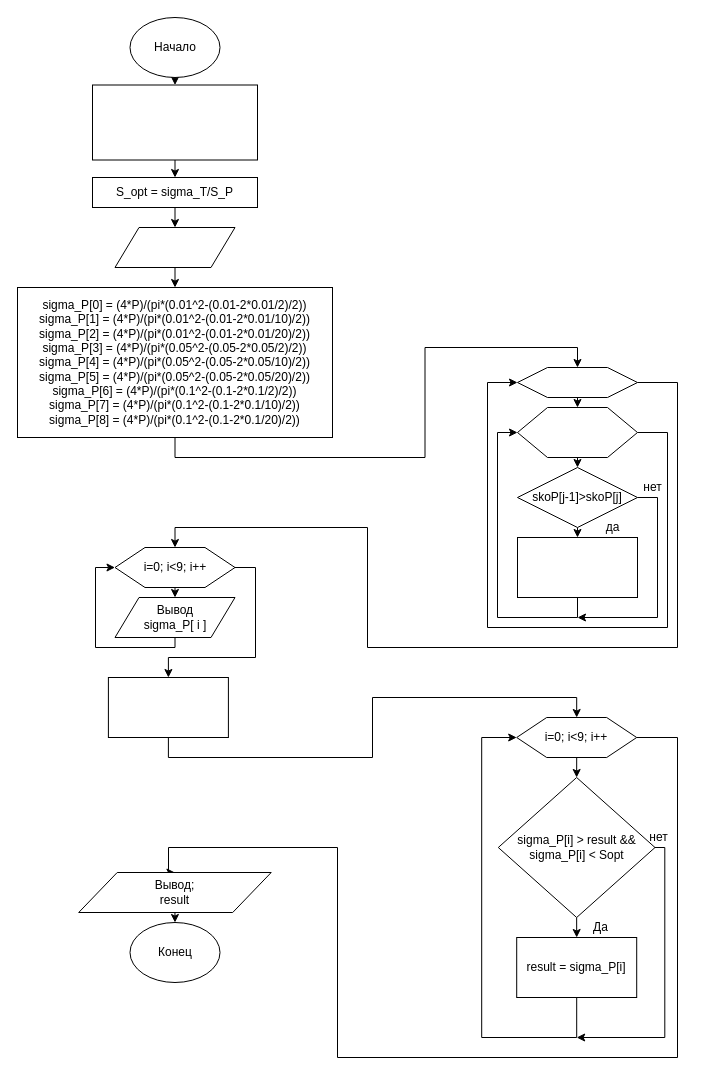
Some shapes in this 703 by 1083 pixel diagram are drawn without their labels. The centre of each missing label's shape, as x and y in pixels:
i=0; i<9-1; i++: the point at 577,382
j=(9-1); j>i; j--: the point at 577,432
result = 0: the point at 167,707
temp = skoP[j-1] skoP[j-1]=skoP[j] skoP[j]=temp: the point at 577,567
Вывод: S_opt: the point at 174,247
Обьявление переменных: P=500 sigma_T=2400000 S_P=1: the point at 175,122
